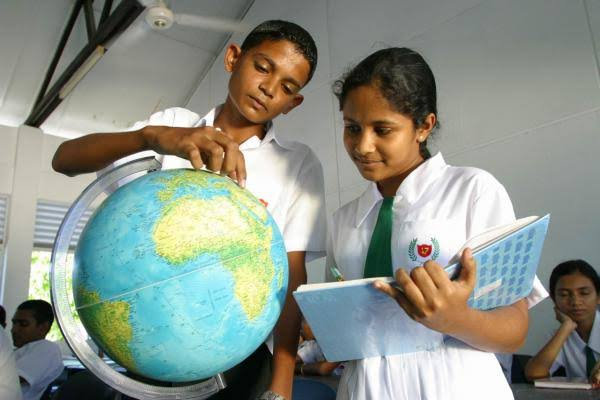student: (331, 58, 431, 178), (216, 26, 313, 122), (547, 263, 600, 320), (6, 300, 54, 344)
